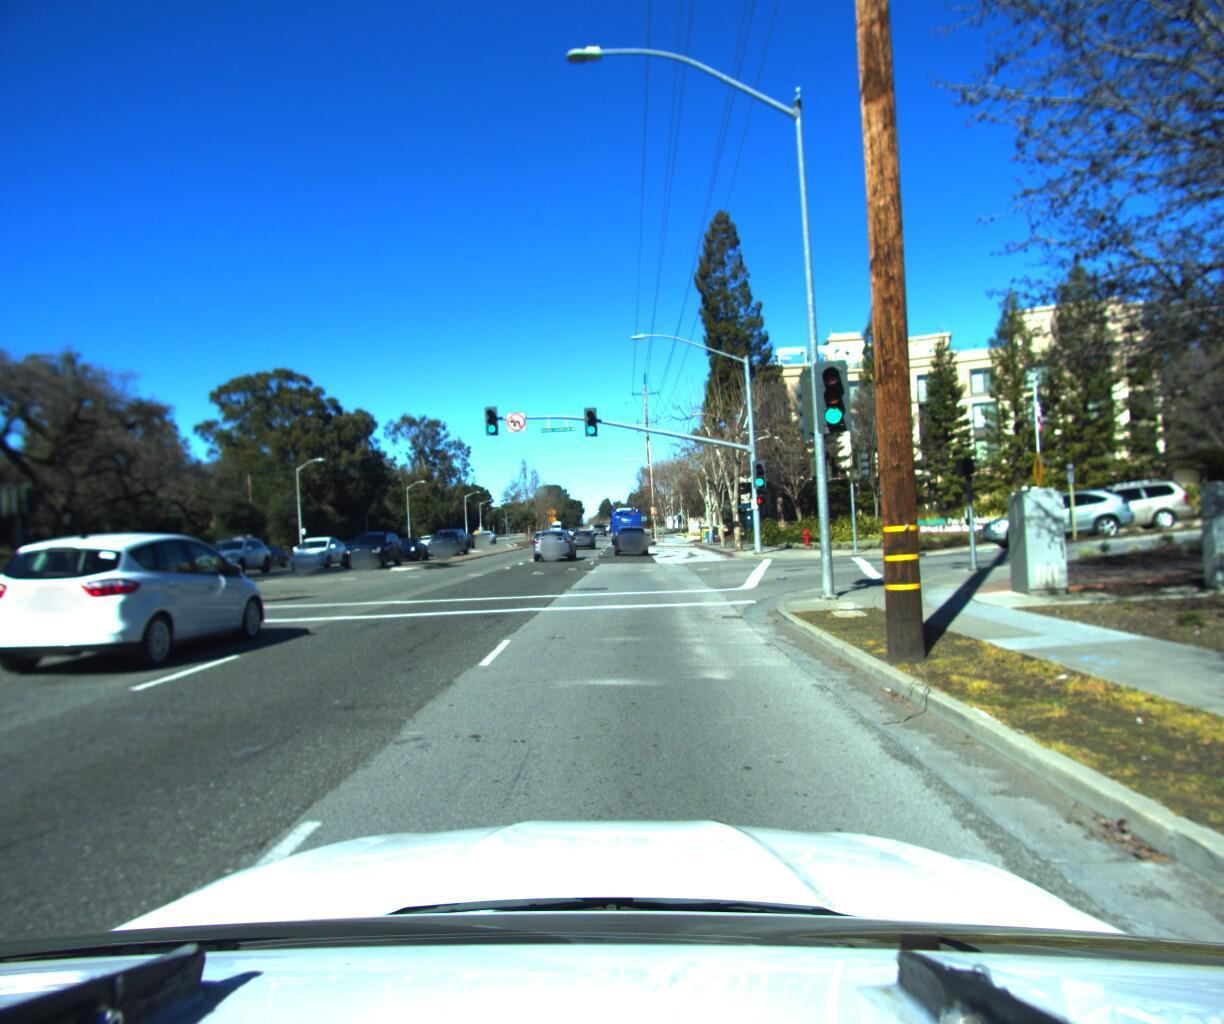bus: (608, 501, 646, 542)
car: (0, 526, 298, 683), (1026, 465, 1201, 534), (972, 477, 1138, 545), (186, 533, 280, 582), (336, 526, 409, 570), (281, 533, 349, 571), (530, 524, 579, 560), (423, 525, 475, 555), (1200, 456, 1224, 519), (381, 534, 435, 562), (612, 521, 650, 553), (570, 525, 598, 546)
